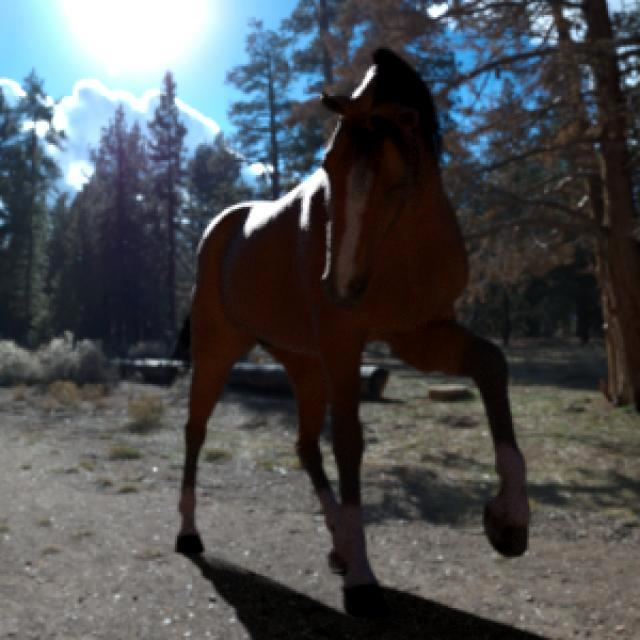horse: (176, 49, 530, 616)
